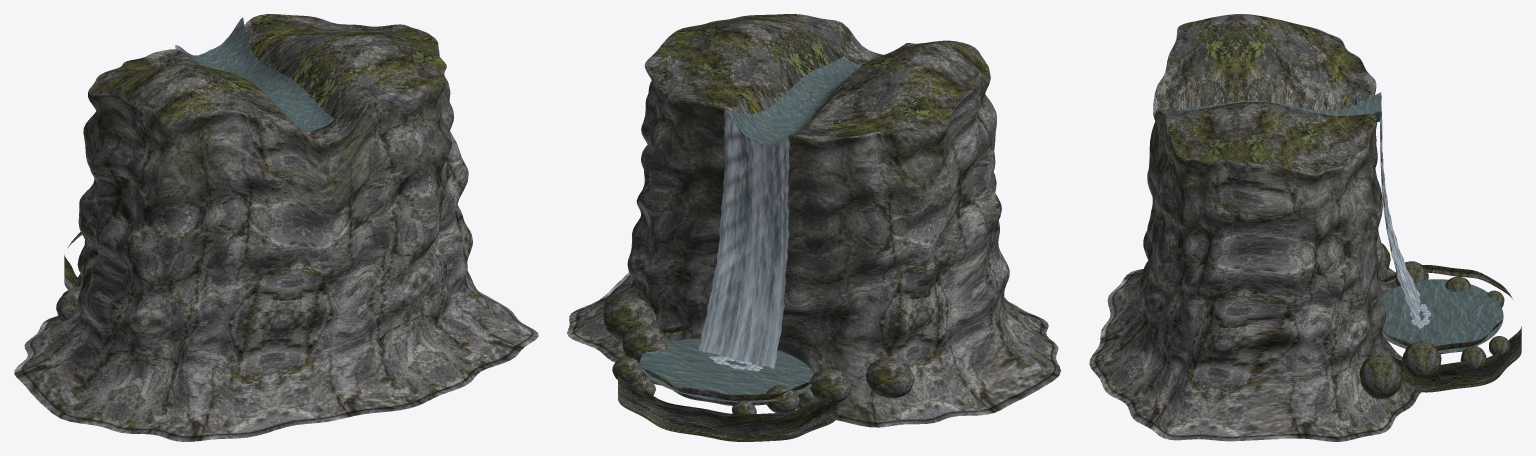
Rendered from Jotunheim_First_Waterfall.glb.
The picture shows the model from 3 angles, left to right: view 1: azimuth 30°, elevation 25°; view 2: azimuth 150°, elevation 25°; view 3: azimuth 270°, elevation 25°; orthographic projection. The views are drawn at different scales.
Parts seen in each view (by area): view 1: Continuous cliff - closed rock volume, Summit - moss ledges and source channel, Upper source channel, Bank rock 04; view 2: Continuous cliff - closed rock volume, Summit - moss ledges and source channel, Waterfall curtain - static image material, Buried basin foundation - depressed bowl, Calm receiving pool, Upper source channel, Bank rock 05, Bank rock 04, Bank rock 02, Bank rock 00, Bank rock 01, Bank rock 03; view 3: Continuous cliff - closed rock volume, Summit - moss ledges and source channel, Calm receiving pool, Buried basin foundation - depressed bowl, Waterfall curtain - static image material, Bank rock 05, Bank rock 02, Upper source channel, Bank rock 03.
Part boxes in pixels (x1,y1,x2,y2): Continuous cliff - closed rock volume: (14,47,538,441); Summit - moss ledges and source channel: (88,14,446,143); Upper source channel: (177,18,334,131); Bank rock 04: (56,285,82,321); Continuous cliff - closed rock volume: (567,70,1060,427); Summit - moss ledges and source channel: (644,14,989,144); Waterfall curtain - static image material: (698,110,789,368); Buried basin foundation - depressed bowl: (618,325,837,441); Calm receiving pool: (640,338,813,402); Upper source channel: (725,55,861,145); Bank rock 05: (603,296,656,340); Bank rock 04: (866,357,914,398); Bank rock 02: (622,325,669,362); Bank rock 00: (810,368,850,403); Bank rock 01: (766,385,799,412); Bank rock 03: (612,357,643,382); Continuous cliff - closed rock volume: (1089,87,1421,441); Summit - moss ledges and source channel: (1153,14,1376,173); Calm receiving pool: (1381,279,1503,353); Buried basin foundation - depressed bowl: (1380,265,1521,392); Waterfall curtain - static image material: (1380,92,1420,329); Bank rock 05: (1359,354,1402,399); Bank rock 02: (1402,340,1441,380); Upper source channel: (1184,92,1380,122); Bank rock 03: (1460,346,1486,371).
Size of the model in its own units: 91.48 by 60.32 by 83.69.
Materials: 5 (5 with a texture image).
